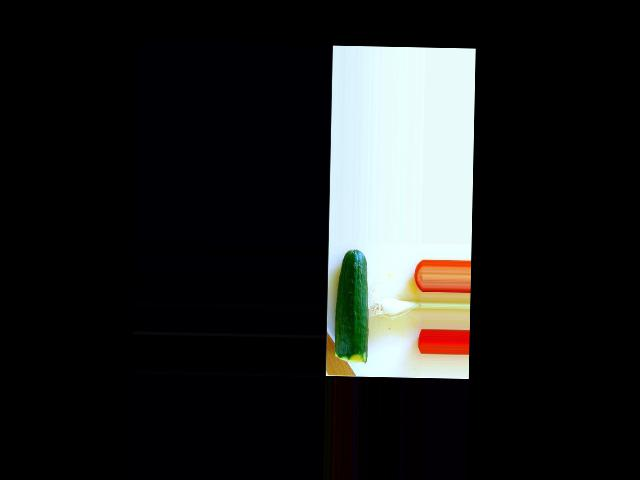cucumber: (333, 248, 369, 363)
